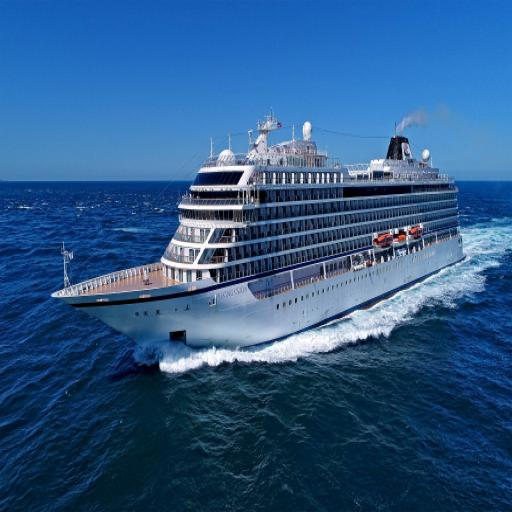cruises: (49, 111, 473, 364)
